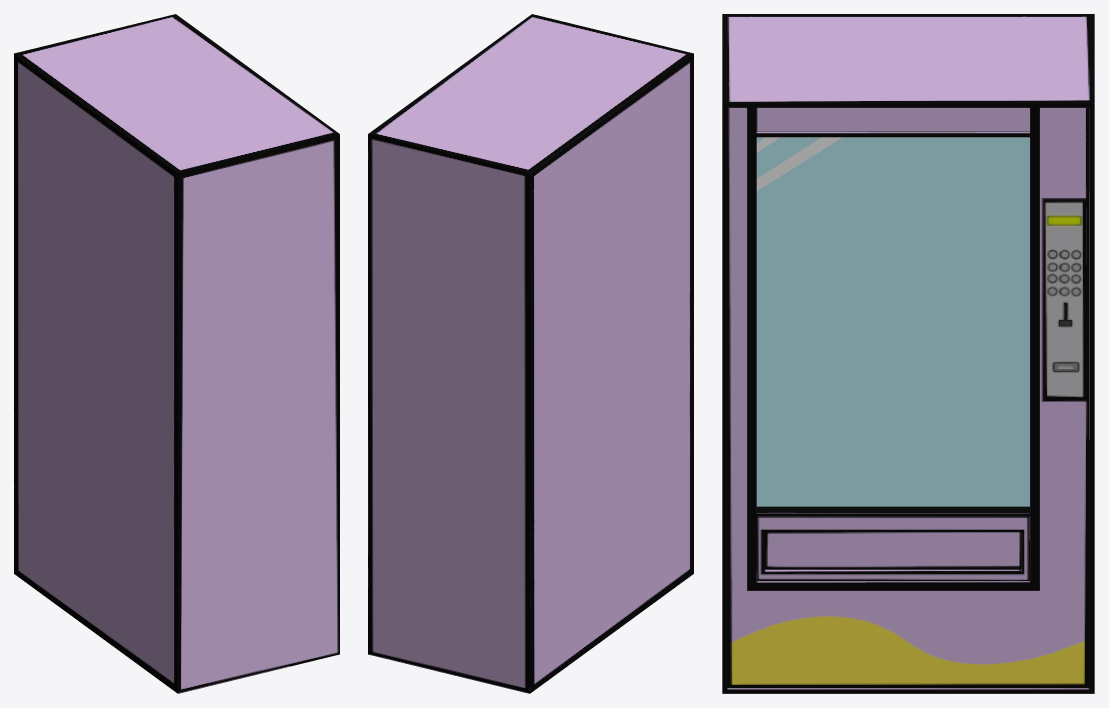
The model's file is vending_machine_2.glb.
The picture shows the model from 3 angles, left to right: view 1: azimuth 30°, elevation 25°; view 2: azimuth 150°, elevation 25°; view 3: azimuth 270°, elevation 25°; orthographic projection. The views are drawn at different scales.
Parts seen in each view (by area): view 1: Vending Machine; view 2: Vending Machine; view 3: Vending Machine, Glass.
Boxes of the visible parts, x1,y1,x2,y2 form: Vending Machine: [14, 14, 339, 693]; Vending Machine: [368, 14, 693, 693]; Vending Machine: [722, 14, 1094, 693]; Glass: [756, 137, 1029, 506].
Bounding box in the file's own units: 1.45 × 4.45 × 2.54.
Materials: 3 (3 with a texture image).
